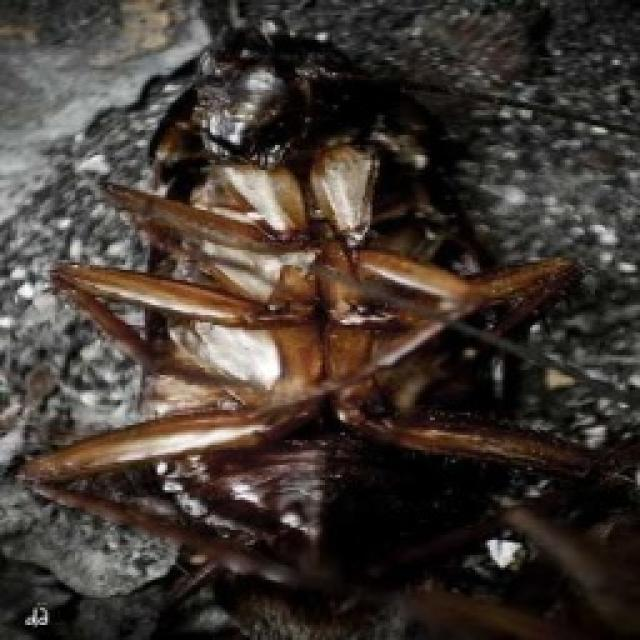cockroach: (47, 38, 610, 640)
